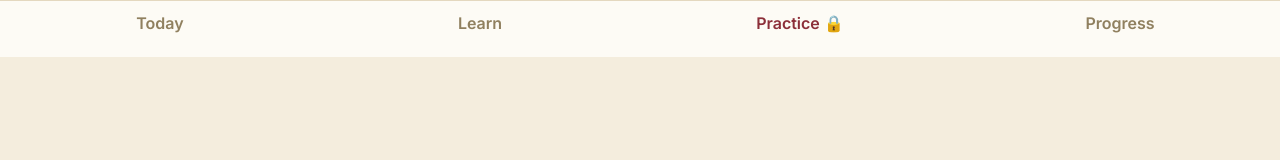
Scenario: BottomNav › clears a stale lock glyph after navigation once Practice is unlocked
expect the link "Practice 🔒" is shown: met, box [756, 13, 844, 33]
Navigate (tap Today) so the pathname dep re-fires the lock read.
Click the link "Today": [160, 23] box [136, 13, 184, 33]
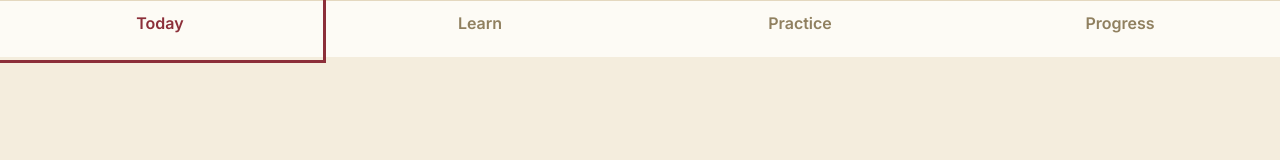
expect the link "Practice" no longer shows "🔒": met, box [768, 13, 832, 33]
